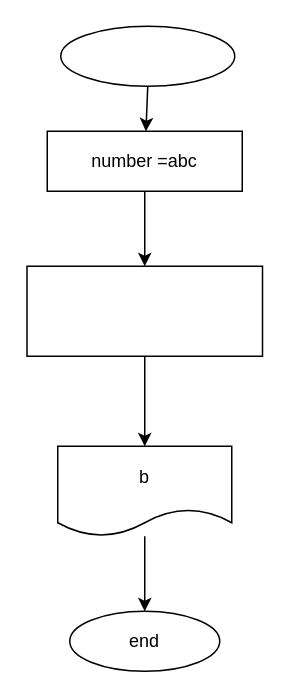
This 288x698 diagram has some shape labels left out. Each missing label, with the centre of its shape:
"b=(mumber / 10) %10" belongs at [144,310].
"start" belongs at [147,55].
